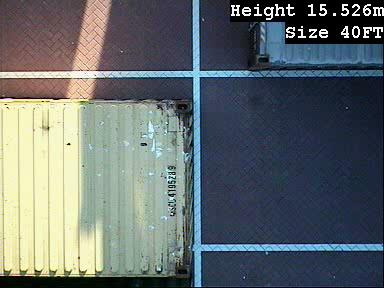groundmarker_2: (170, 78, 222, 114), (194, 210, 228, 260)
